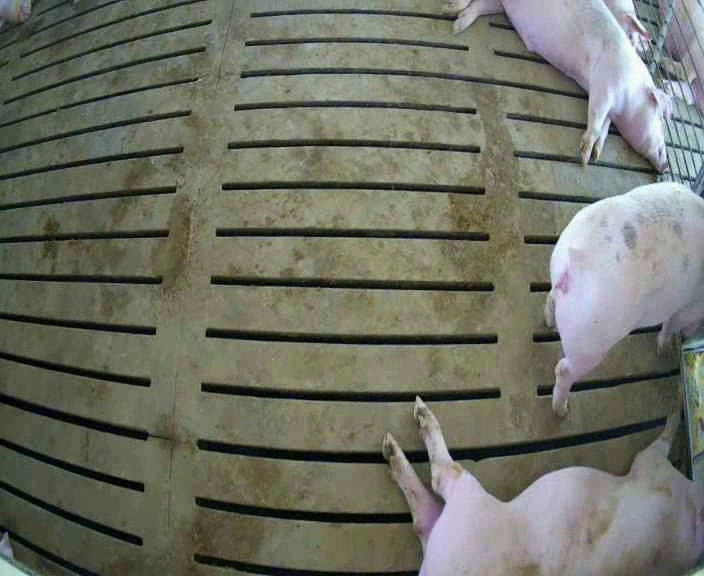pig: (383, 398, 703, 574), (442, 1, 670, 171), (545, 183, 703, 414)
